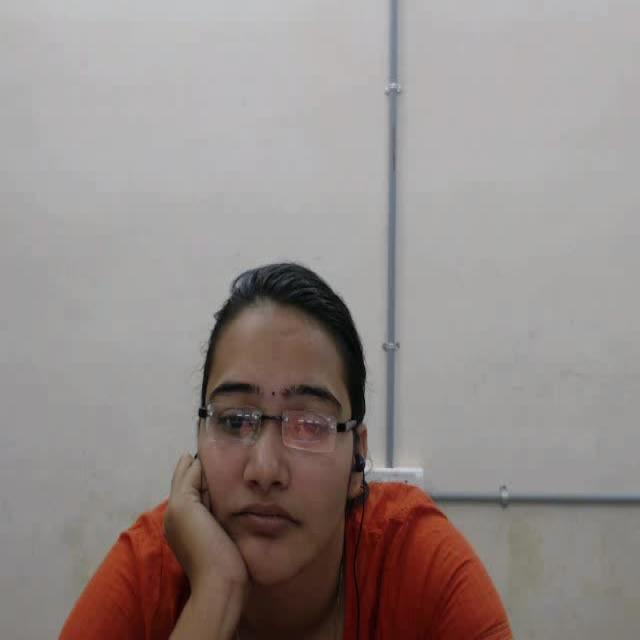Bored: (161, 256, 414, 640)
